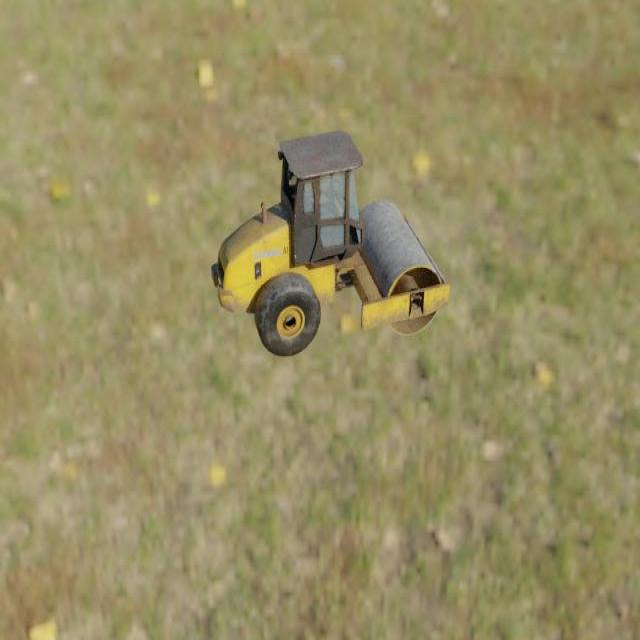Roller: (210, 130, 450, 358)
